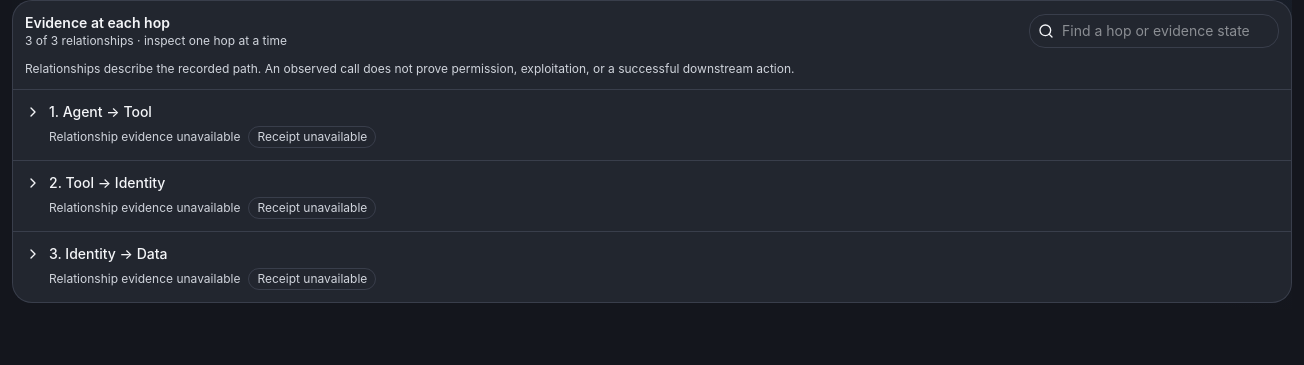
Test case: GraphHopEvidenceInspector › retains missing positions and rejects mismatched receipt endpoints
This screenshot has width=1304, height=365.
Expected: the text "Receipt unavailable" is shown 3 times, [248, 126, 376, 148]; [248, 197, 376, 219]; [248, 268, 376, 290]
Click the button "1. Agent". click: (83, 112)
box: [13, 90, 1291, 160]
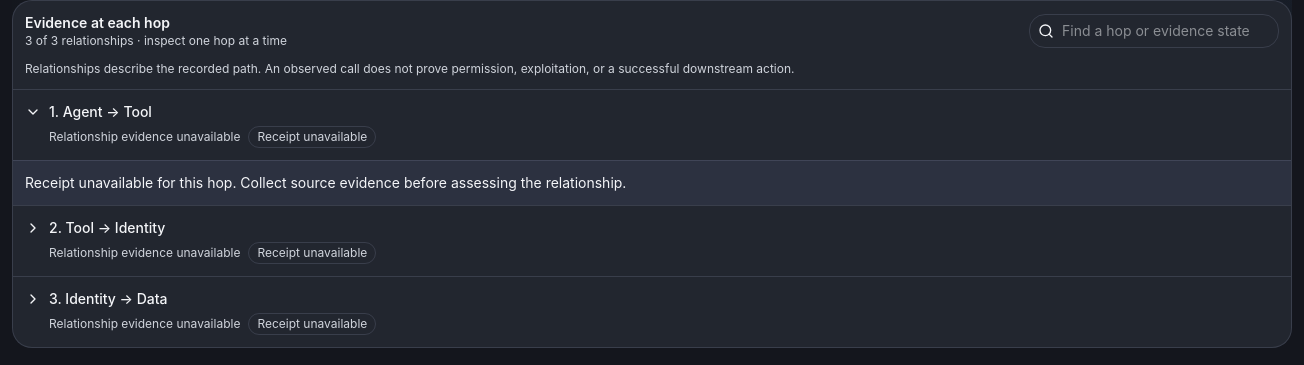
Now the text "Collect source evidence" is shown, box [25, 174, 626, 191]
